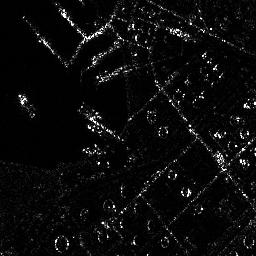ship: (17, 93, 36, 119)
